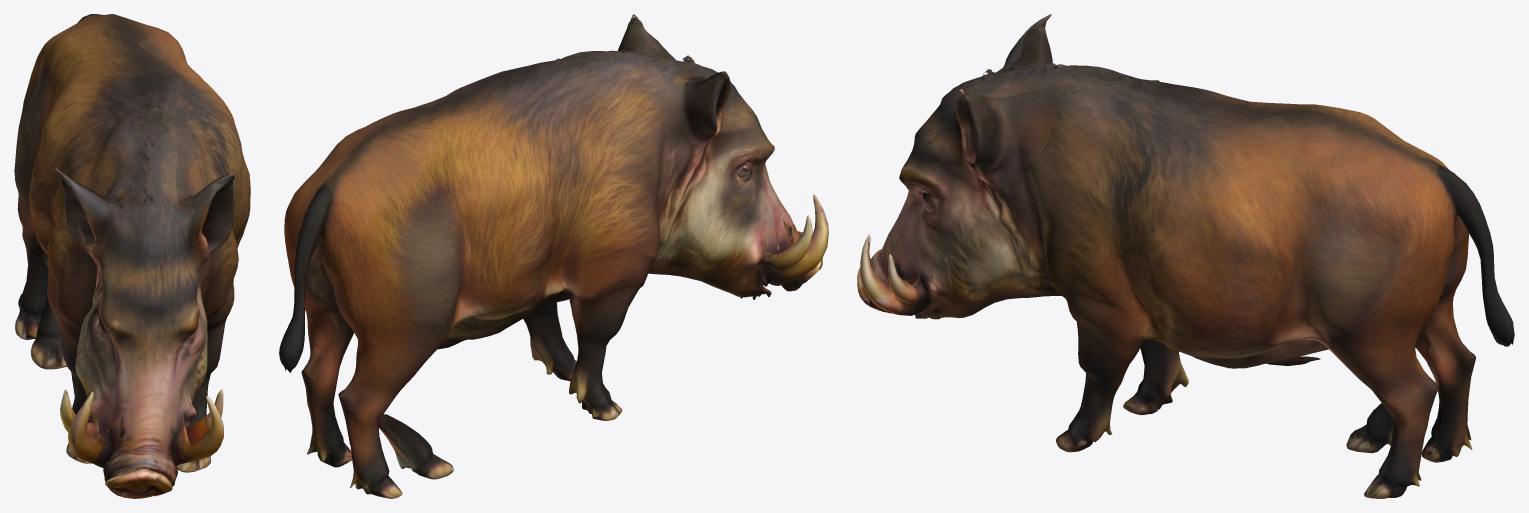
Rendered from giant-boar.glb.
3 views of the same model, side by side, from view 1: azimuth 30°, elevation 25°; view 2: azimuth 150°, elevation 25°; view 3: azimuth 270°, elevation 25° (orthographic). The views are drawn at different scales.
Size of the model in its own units: 1.18 by 1.19 by 1.96.
Materials: 1 (1 with a texture image).
